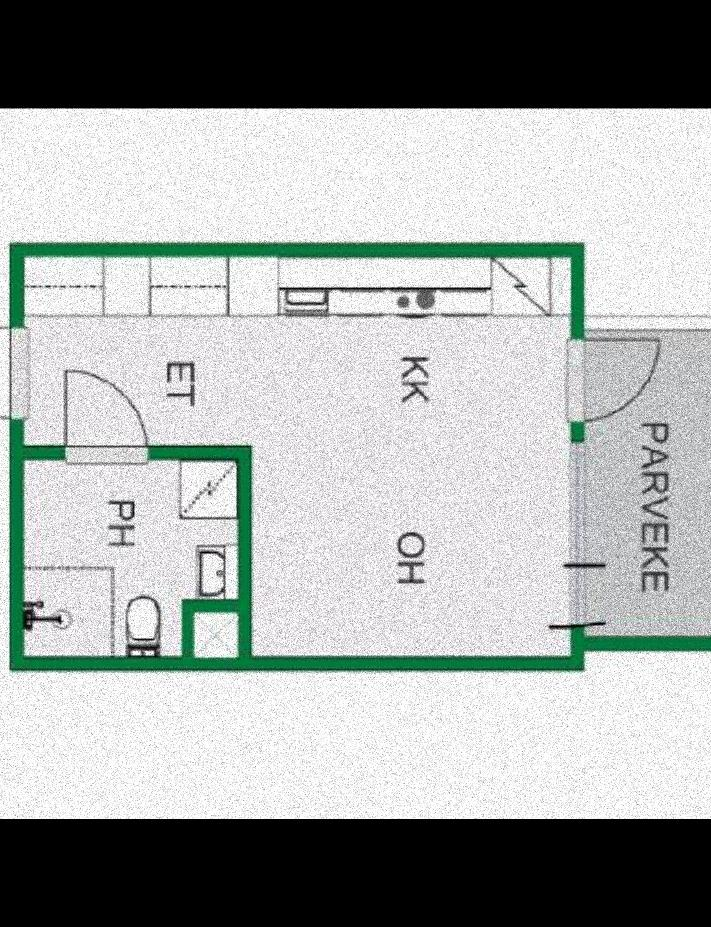door: (65, 358, 147, 471), (573, 341, 664, 419), (0, 324, 29, 428)
window: (564, 444, 588, 625)
zone: (23, 261, 570, 651), (21, 464, 235, 650), (586, 336, 711, 633)
